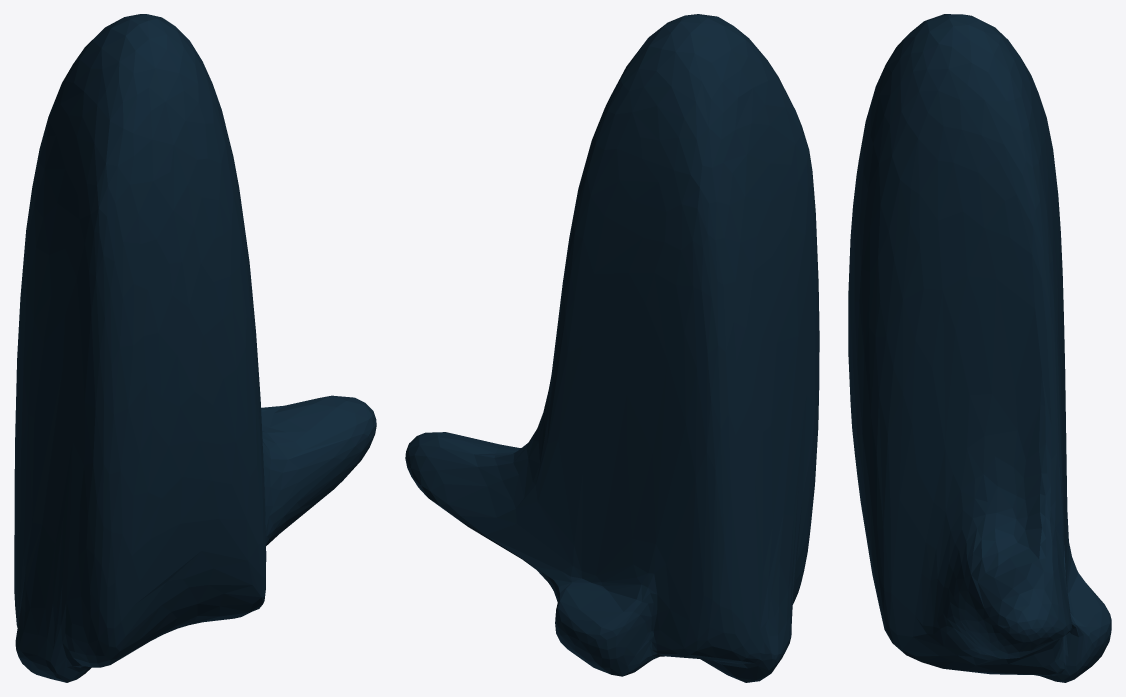
3 renders of one model, left to right at view 1: azimuth 30°, elevation 25°; view 2: azimuth 150°, elevation 25°; view 3: azimuth 270°, elevation 25°, orthographic. The views are drawn at different scales.
Parts seen in each view (by area): view 1: 292_Cube.1191; view 2: 292_Cube.1191; view 3: 292_Cube.1191.
Boxes of the visible parts, bbox=[...] form: 292_Cube.1191: bbox=[14, 14, 376, 682]; 292_Cube.1191: bbox=[405, 14, 819, 682]; 292_Cube.1191: bbox=[848, 14, 1111, 682].
Size of the model in its own units: 6.87 by 11.64 by 4.27.
